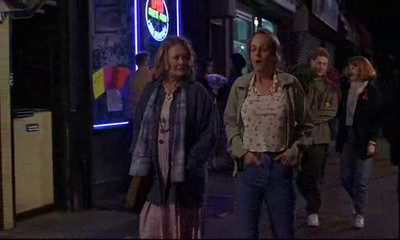face: (250, 40, 269, 72), (169, 50, 189, 76), (314, 57, 328, 75), (349, 64, 359, 81)
mls: (1, 1, 400, 240)
person: (223, 27, 313, 240), (126, 35, 219, 240), (288, 47, 339, 229), (335, 57, 382, 232)
